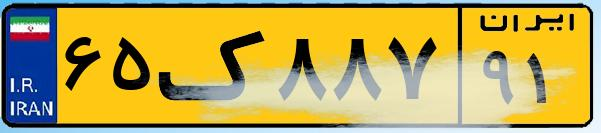1: (525, 38, 570, 115)
5: (110, 28, 158, 98)
6: (57, 26, 110, 100)
7: (385, 28, 445, 110)
8: (270, 28, 330, 110), (330, 28, 385, 110)
9: (475, 38, 525, 113)
ک: (158, 12, 270, 120)
